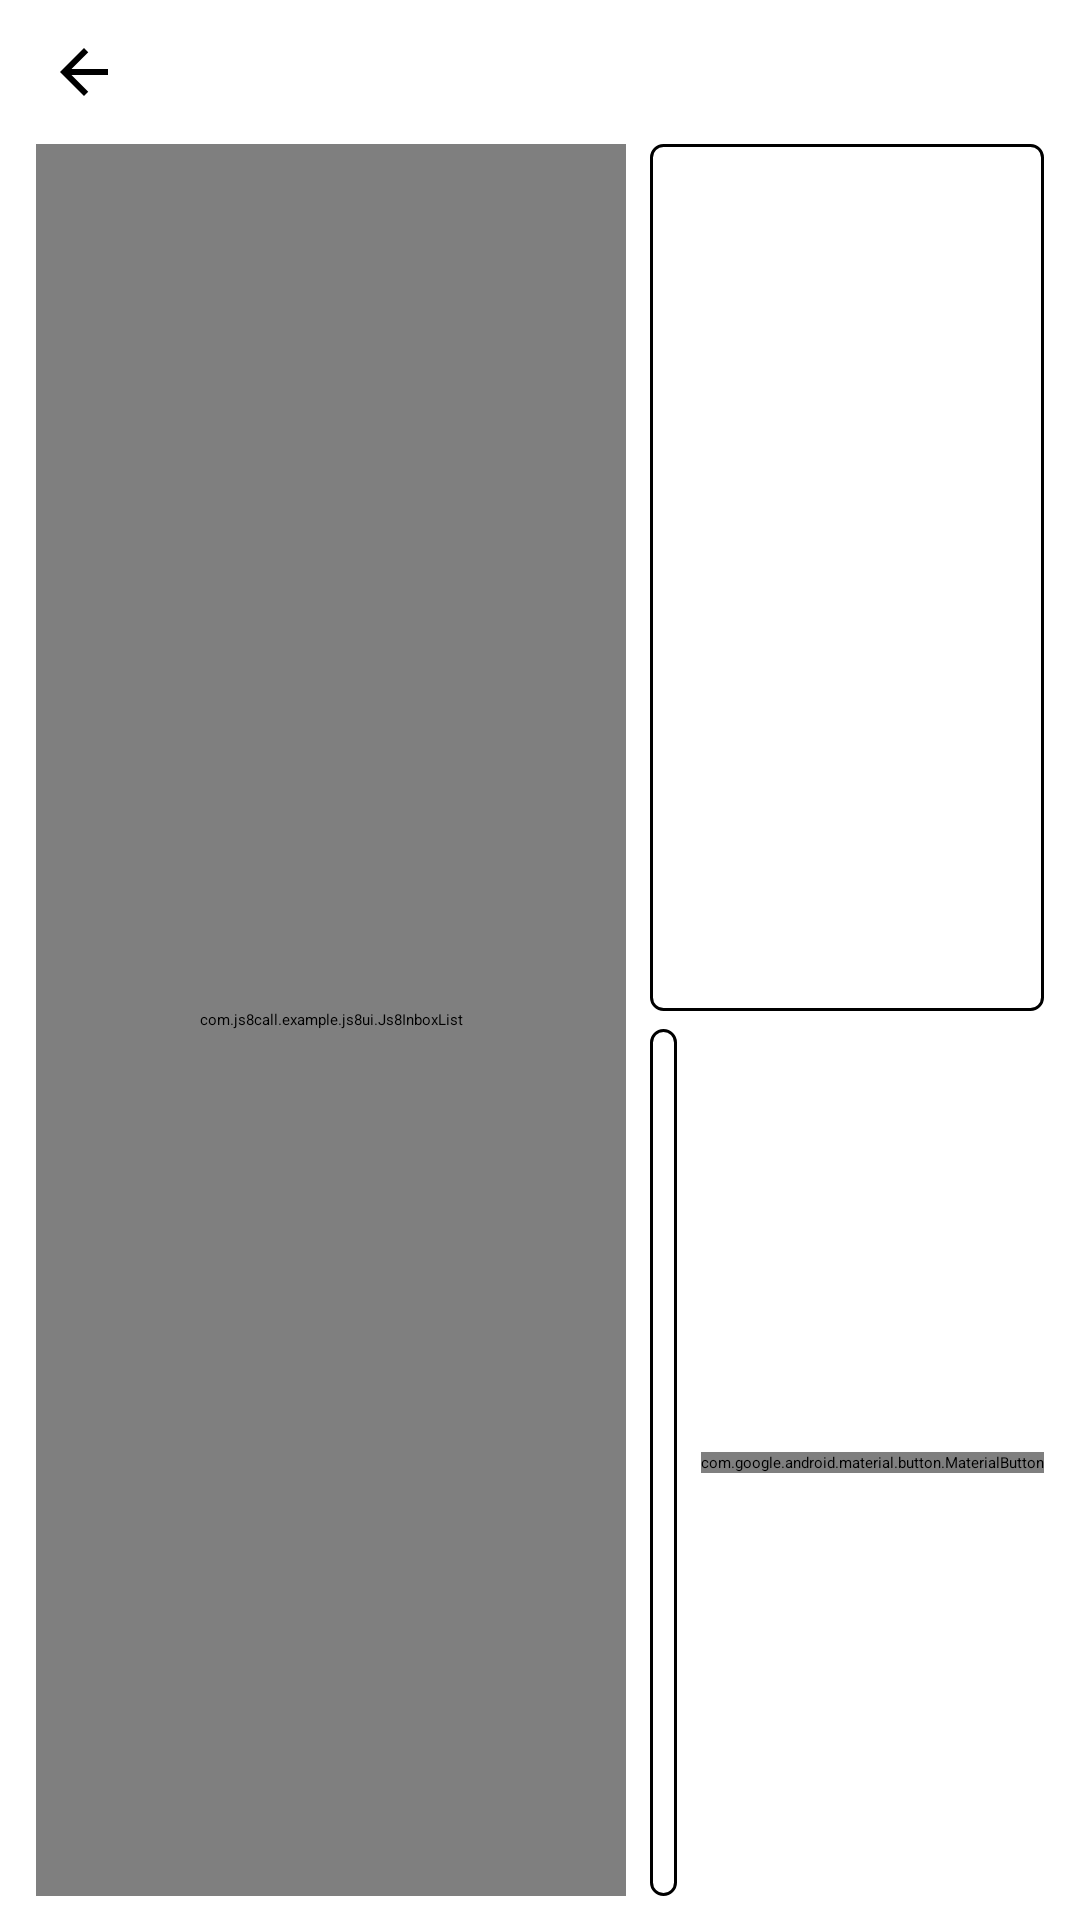

Named icons in this screenshot (1080×1920) and their bounding boxes, detection(x1, y1, x2, y2):
Back: detection(60, 48, 108, 96)
